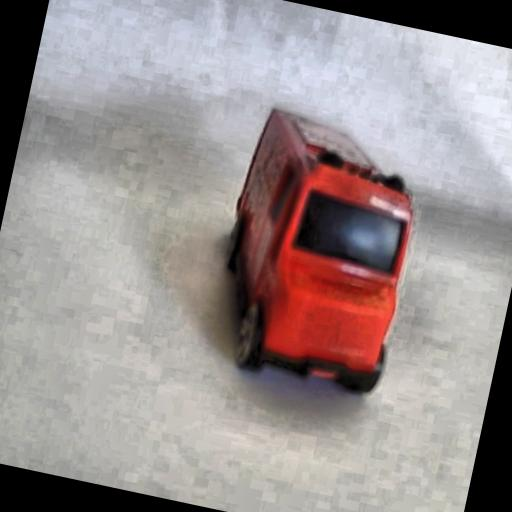fire_truck: (192, 98, 436, 416)
